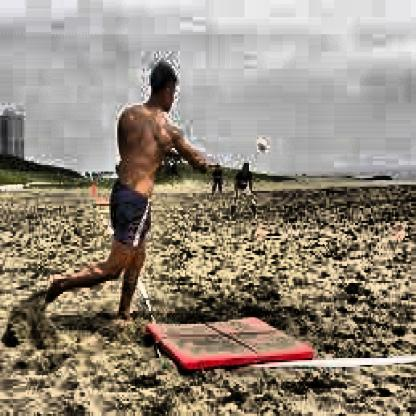baseball: (259, 138, 268, 157)
